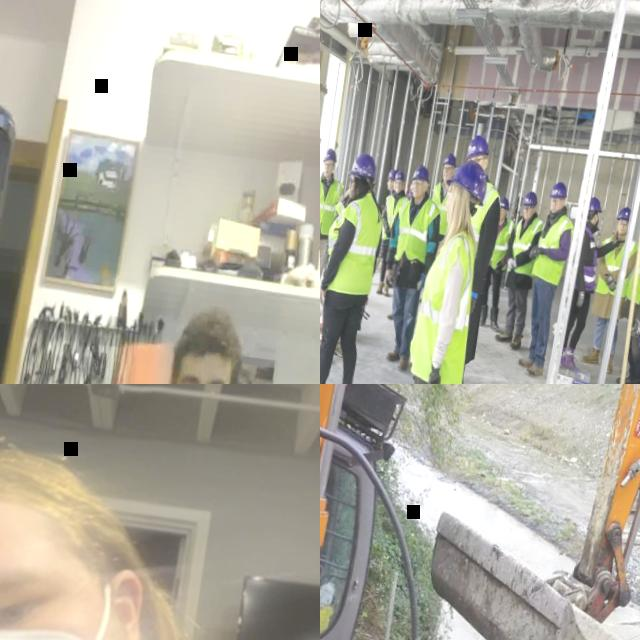Hardhat: (444, 157, 491, 208), (348, 150, 380, 180), (466, 134, 493, 163), (410, 163, 432, 186), (548, 181, 570, 201), (521, 190, 540, 208), (322, 147, 339, 165), (588, 197, 606, 214), (442, 153, 459, 169), (498, 196, 513, 213), (617, 207, 632, 223), (387, 168, 399, 181), (394, 170, 406, 183), (516, 196, 525, 203), (409, 183, 414, 194)
Mask: (593, 214, 600, 228)
NO-Hardhat: (0, 418, 112, 593), (176, 309, 244, 371)
NO-Mask: (412, 188, 424, 199), (550, 205, 563, 215), (617, 226, 628, 236), (444, 205, 450, 223), (324, 169, 334, 179), (349, 186, 356, 199), (443, 173, 453, 182), (523, 213, 533, 222), (396, 186, 403, 193), (500, 214, 506, 222), (388, 185, 393, 192)
Person: (0, 409, 320, 640), (378, 153, 495, 384), (43, 294, 305, 384), (427, 133, 511, 384), (320, 148, 394, 384), (371, 161, 450, 375), (512, 179, 580, 379), (559, 196, 629, 380), (580, 204, 640, 377), (493, 190, 549, 353), (479, 194, 521, 334), (371, 168, 414, 299), (320, 143, 349, 318), (614, 204, 640, 384), (371, 168, 404, 286), (422, 151, 460, 252), (619, 206, 640, 384), (511, 195, 527, 223)
Safety Cone: (48, 328, 248, 384)
Safety Vest: (404, 224, 483, 384), (321, 188, 388, 298), (391, 193, 443, 265), (462, 177, 503, 266), (530, 213, 575, 289), (595, 234, 639, 298), (508, 214, 545, 279), (575, 225, 604, 296), (489, 217, 518, 273), (320, 173, 345, 237), (426, 182, 455, 236), (380, 193, 411, 242), (625, 231, 640, 308), (381, 194, 392, 230), (333, 200, 347, 216), (511, 205, 522, 224)
vehicle: (320, 384, 640, 640)
